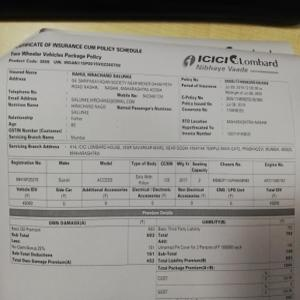image: (182, 50, 285, 77)
table: (9, 208, 295, 300), (9, 160, 295, 207)
text: (7, 70, 271, 142), (9, 39, 143, 70)
